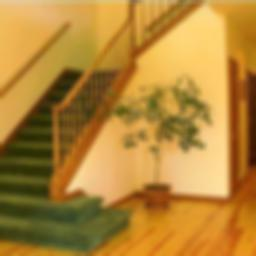Escaleras: (0, 48, 130, 246)
Matera: (86, 77, 208, 201)
